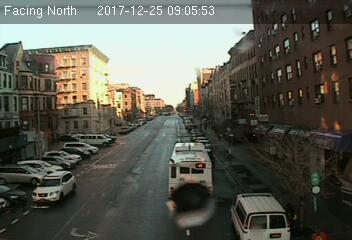bus: (169, 141, 215, 203)
car: (31, 171, 77, 203)
truck: (229, 189, 293, 239)
